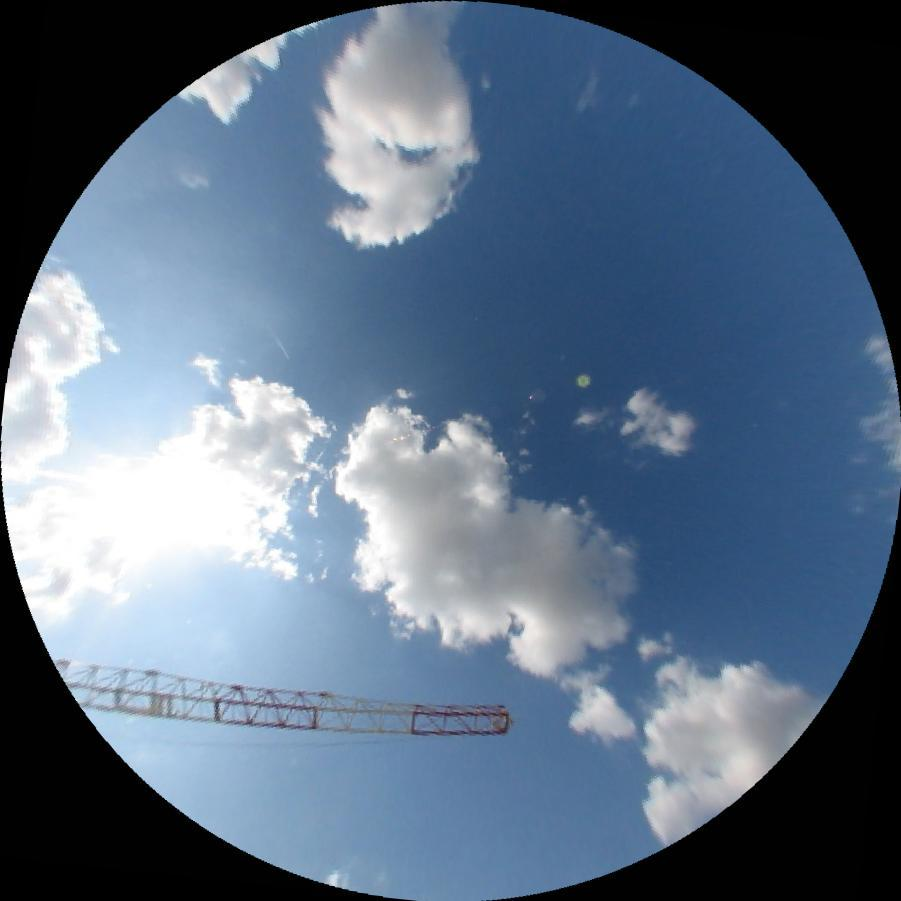contrail young: (261, 317, 290, 360)
parasite: (34, 469, 105, 481)
sun: (111, 438, 246, 548)
